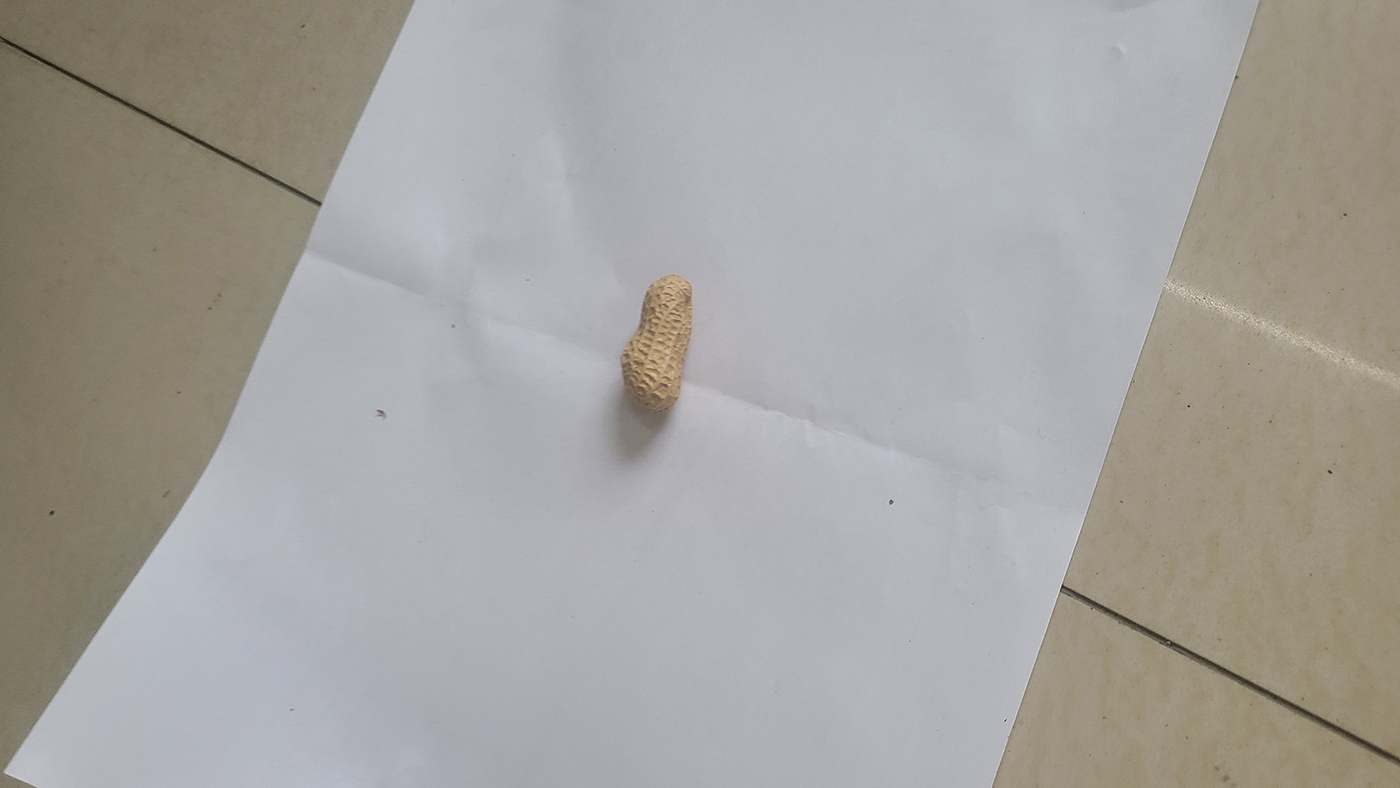h: (618, 274, 695, 414)
